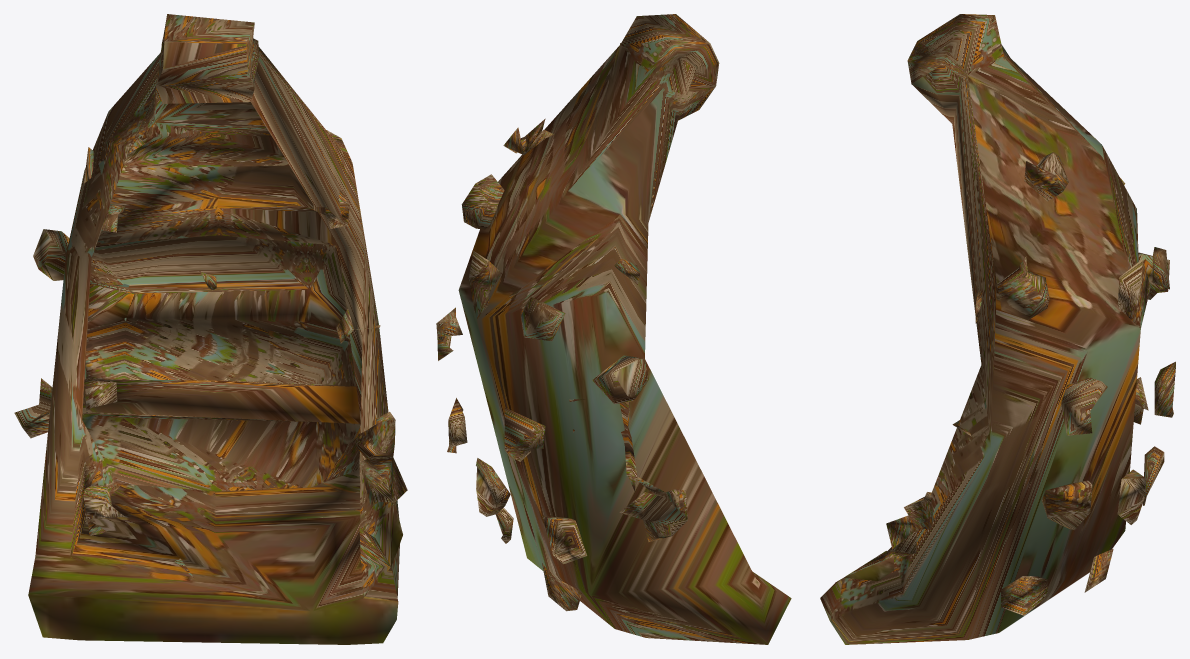
Rendered from hull_fragment.glb.
The picture shows the model from 3 angles, left to right: view 1: azimuth 30°, elevation 25°; view 2: azimuth 150°, elevation 25°; view 3: azimuth 270°, elevation 25°; orthographic projection. The views are drawn at different scales.
Visible parts, largest first — view 1: tripo_node_ec2b153d-2c0c-47df-808e-785257b322bf; view 2: tripo_node_ec2b153d-2c0c-47df-808e-785257b322bf; view 3: tripo_node_ec2b153d-2c0c-47df-808e-785257b322bf.
Boxes of the visible parts, left/top/right/bottom form: tripo_node_ec2b153d-2c0c-47df-808e-785257b322bf: left=14, top=14, right=407, bottom=644; tripo_node_ec2b153d-2c0c-47df-808e-785257b322bf: left=436, top=14, right=791, bottom=644; tripo_node_ec2b153d-2c0c-47df-808e-785257b322bf: left=820, top=14, right=1175, bottom=644.
Size of the model in its own units: 0.4531 by 0.7637 by 0.434.
1 material, 1 textured.
